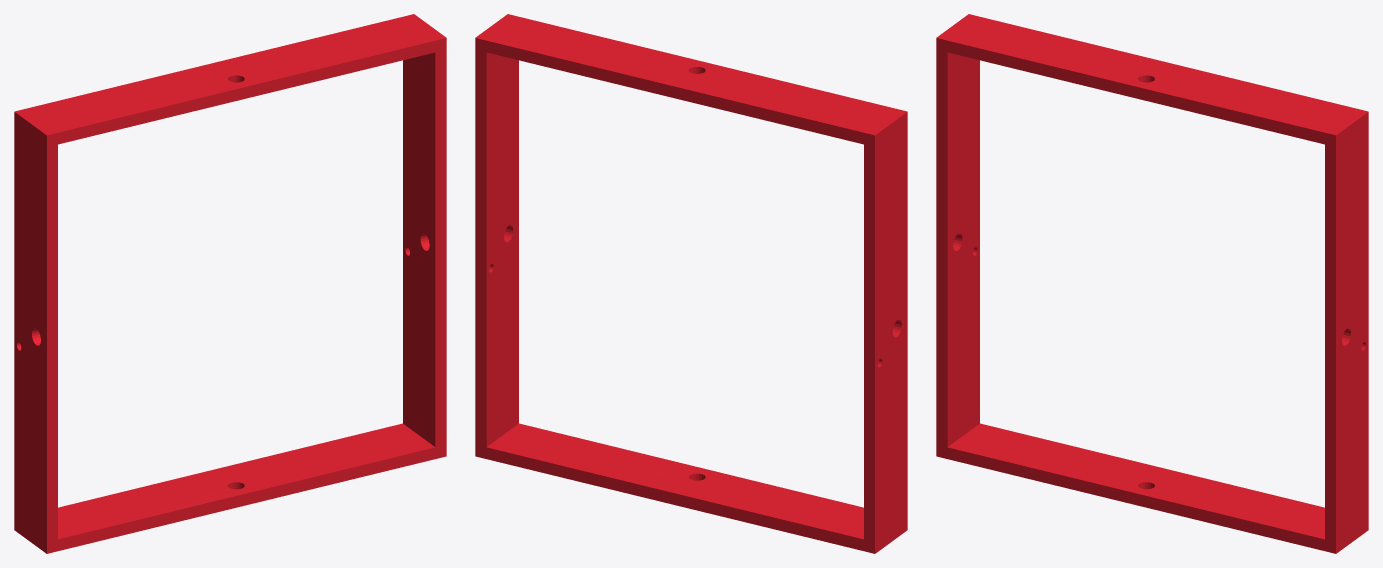
File: tinker.obj
The picture shows the model from 3 angles, left to right: view 1: azimuth 30°, elevation 25°; view 2: azimuth 150°, elevation 25°; view 3: azimuth 330°, elevation 25°; orthographic projection.
Parts seen in each view (by area): view 1: obj_0; view 2: obj_0; view 3: obj_0.
Boxes of the visible parts, x1,y1,x2,y2 form: obj_0: (14, 14, 446, 553); obj_0: (475, 14, 907, 553); obj_0: (936, 14, 1368, 553).
Bounding box in the file's own units: 177 × 177 × 25.
